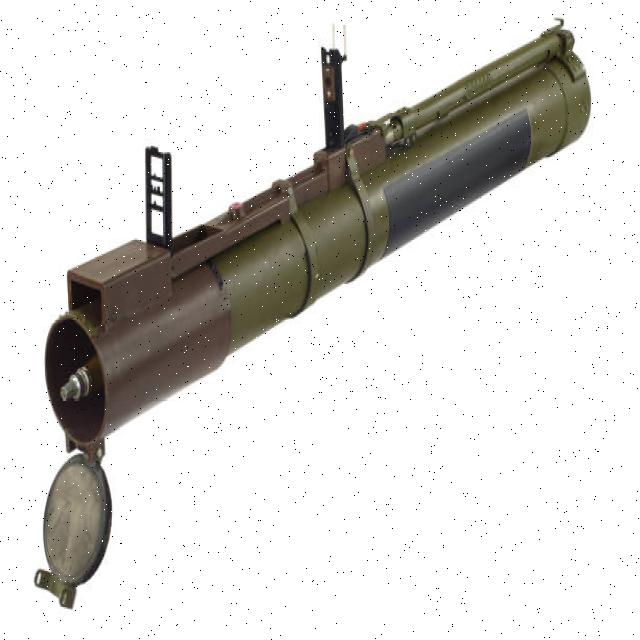bazooka: (29, 9, 602, 616)
